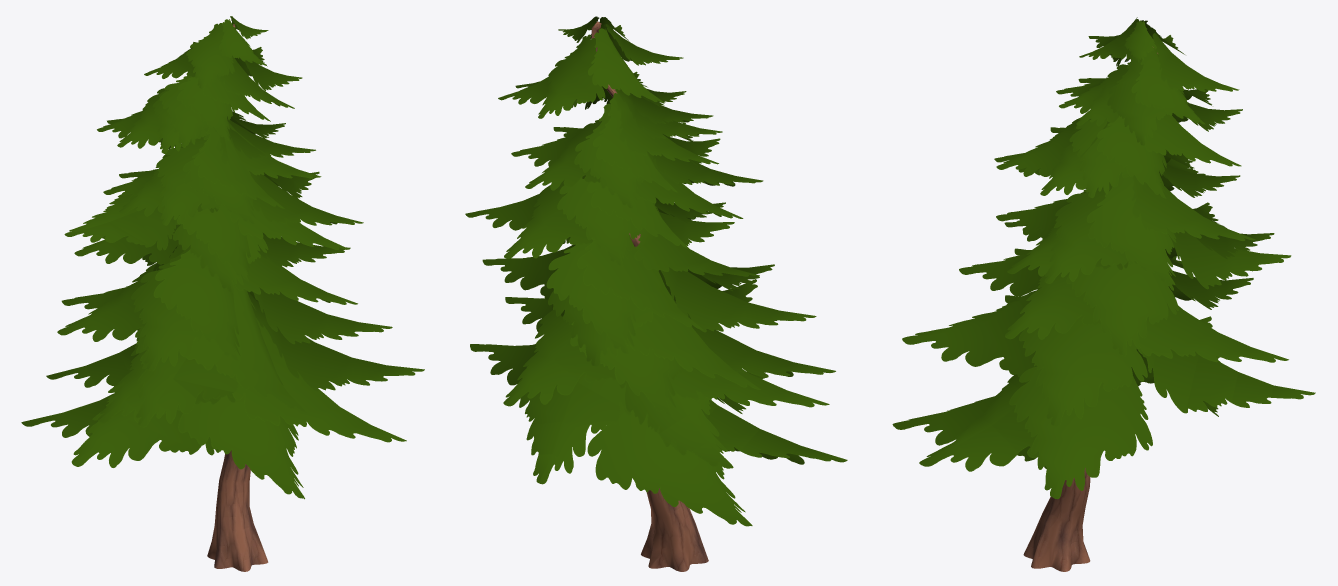
Rendered from pino_2.obj.
3 views of the same model, side by side, from view 1: azimuth 30°, elevation 25°; view 2: azimuth 150°, elevation 25°; view 3: azimuth 270°, elevation 25° (orthographic). The views are drawn at different scales.
Parts seen in each view (by area): view 1: Pine_5; view 2: Pine_5; view 3: Pine_5.
Part boxes in pixels (x1,y1,x2,y2): Pine_5: [21, 16, 424, 571]; Pine_5: [465, 16, 847, 571]; Pine_5: [892, 17, 1315, 571].
Bounding box in the file's own units: 6.42 × 8.72 × 6.22.
Materials: 2 (2 with a texture image).
